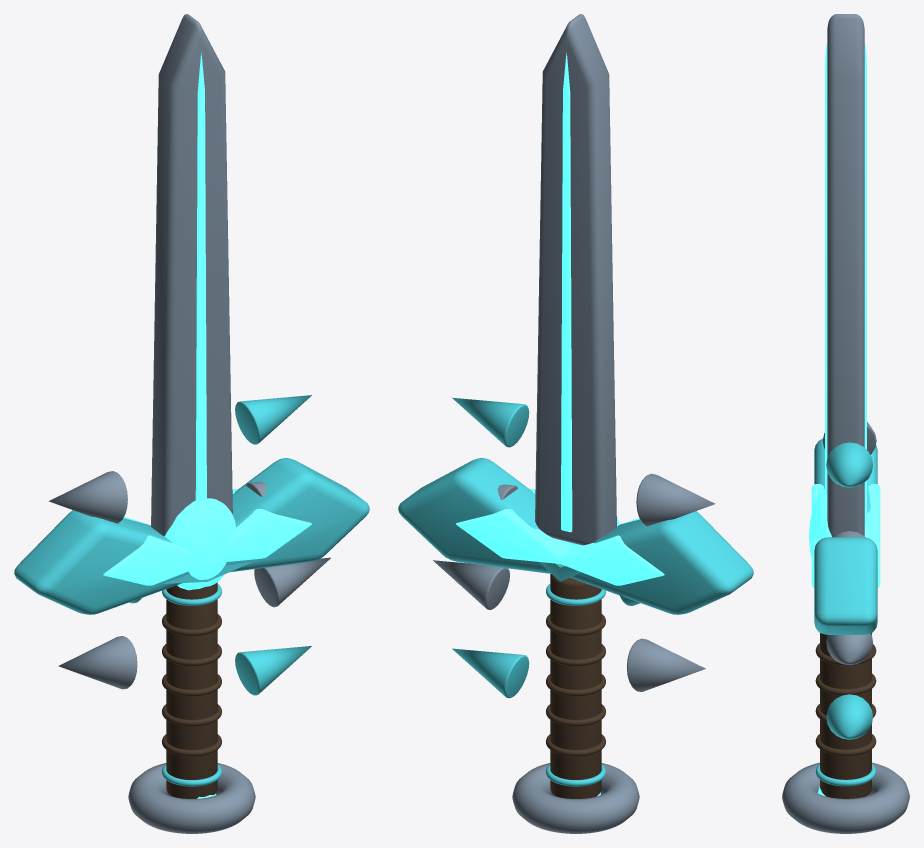
Rendered from sword_v3.glb.
3 views of the same model, side by side, from view 1: azimuth 30°, elevation 25°; view 2: azimuth 150°, elevation 25°; view 3: azimuth 270°, elevation 25° (orthographic).
Visible parts, largest first — view 1: FACETED_BLADE_PRIMARY, WINGED_GUARD_ACCENT, GRIP_SECONDARY, RING_POMMEL_PRIMARY, GUARD_INLAY_EMISSIVE, BLADE_FULLER_EMISSIVE, VARIANT_CORE_EMISSIVE, VARIANT_SPINE_PRIMARY, VARIANT_SPINE_PRIMARY.003, VARIANT_SPINE_ACCENT, VARIANT_SPINE_ACCENT.002, VARIANT_SPINE_PRIMARY.001; view 2: FACETED_BLADE_PRIMARY, WINGED_GUARD_ACCENT, GRIP_SECONDARY, GUARD_INLAY_EMISSIVE, RING_POMMEL_PRIMARY, BLADE_FULLER_EMISSIVE, VARIANT_SPINE_PRIMARY, VARIANT_SPINE_PRIMARY.003, VARIANT_SPINE_ACCENT.002, VARIANT_SPINE_ACCENT, VARIANT_SPINE_PRIMARY.001; view 3: FACETED_BLADE_PRIMARY, WINGED_GUARD_ACCENT, RING_POMMEL_PRIMARY, GRIP_SECONDARY, BLADE_FULLER_EMISSIVE, VARIANT_SPINE_ACCENT.002, VARIANT_SPINE_ACCENT, GUARD_INLAY_EMISSIVE, VARIANT_SPINE_PRIMARY.001, VARIANT_CORE_EMISSIVE, GRIP_WRAP_ACCENT, GRIP_WRAP_SECONDARY (+2 smaller).
Boxes of the visible parts, x1,y1,x2,y2 form: FACETED_BLADE_PRIMARY: [151, 14, 232, 536]; WINGED_GUARD_ACCENT: [14, 458, 369, 614]; GRIP_SECONDARY: [166, 582, 217, 798]; RING_POMMEL_PRIMARY: [128, 763, 255, 833]; GUARD_INLAY_EMISSIVE: [103, 489, 311, 585]; BLADE_FULLER_EMISSIVE: [195, 53, 206, 502]; VARIANT_CORE_EMISSIVE: [164, 498, 235, 590]; VARIANT_SPINE_PRIMARY: [58, 636, 137, 689]; VARIANT_SPINE_PRIMARY.003: [49, 471, 127, 523]; VARIANT_SPINE_ACCENT: [235, 646, 311, 695]; VARIANT_SPINE_ACCENT.002: [235, 395, 311, 444]; VARIANT_SPINE_PRIMARY.001: [254, 557, 330, 607]; FACETED_BLADE_PRIMARY: [535, 14, 616, 545]; WINGED_GUARD_ACCENT: [398, 458, 753, 614]; GRIP_SECONDARY: [550, 574, 601, 798]; GUARD_INLAY_EMISSIVE: [456, 489, 664, 585]; RING_POMMEL_PRIMARY: [512, 763, 639, 833]; BLADE_FULLER_EMISSIVE: [561, 53, 572, 532]; VARIANT_SPINE_PRIMARY: [627, 638, 705, 691]; VARIANT_SPINE_PRIMARY.003: [636, 473, 715, 526]; VARIANT_SPINE_ACCENT.002: [452, 397, 529, 447]; VARIANT_SPINE_ACCENT: [452, 648, 529, 698]; VARIANT_SPINE_PRIMARY.001: [433, 560, 509, 609]; FACETED_BLADE_PRIMARY: [827, 14, 864, 537]; WINGED_GUARD_ACCENT: [814, 438, 877, 634]; RING_POMMEL_PRIMARY: [782, 762, 909, 833]; GRIP_SECONDARY: [820, 633, 871, 798]; BLADE_FULLER_EMISSIVE: [825, 43, 866, 524]; VARIANT_SPINE_ACCENT.002: [826, 442, 872, 487]; VARIANT_SPINE_ACCENT: [826, 694, 872, 739]; GUARD_INLAY_EMISSIVE: [811, 484, 880, 587]; VARIANT_SPINE_PRIMARY.001: [826, 633, 872, 665]; VARIANT_CORE_EMISSIVE: [809, 488, 831, 558]; GRIP_WRAP_ACCENT: [815, 764, 876, 786]; GRIP_WRAP_SECONDARY: [815, 734, 876, 755].
Size of the model in its own units: 2.1 by 4.78 by 0.69.
